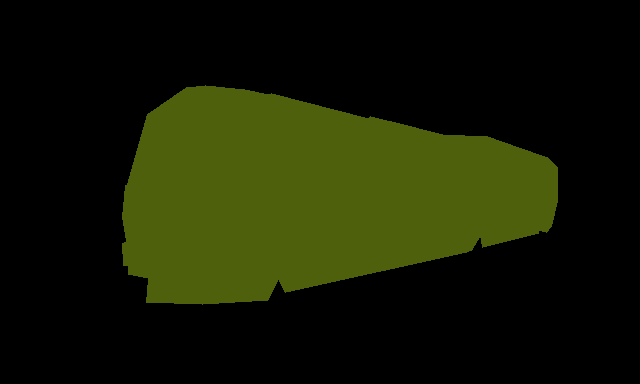Train: (122, 85, 558, 305)
